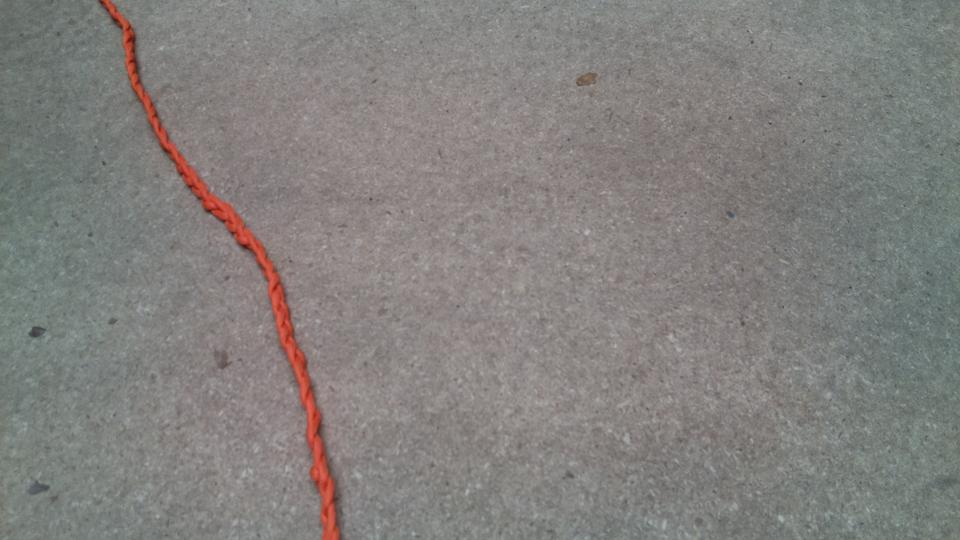rope: (99, 1, 346, 539)
